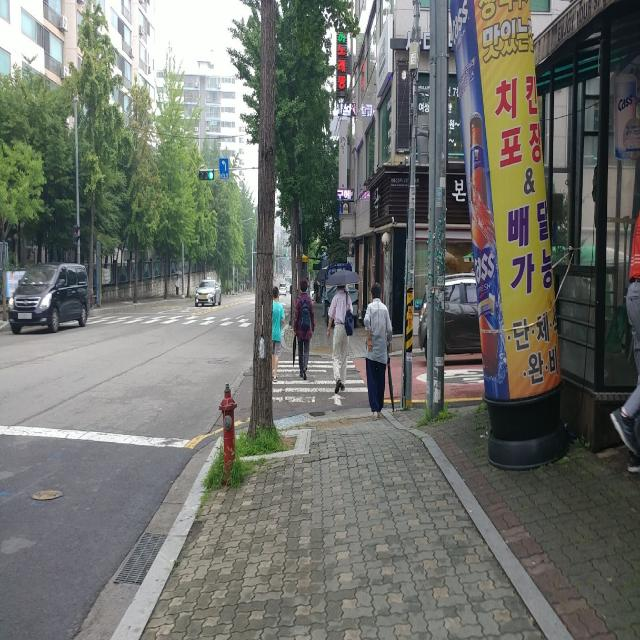횡단보도: (271, 355, 368, 403), (87, 311, 257, 331)
